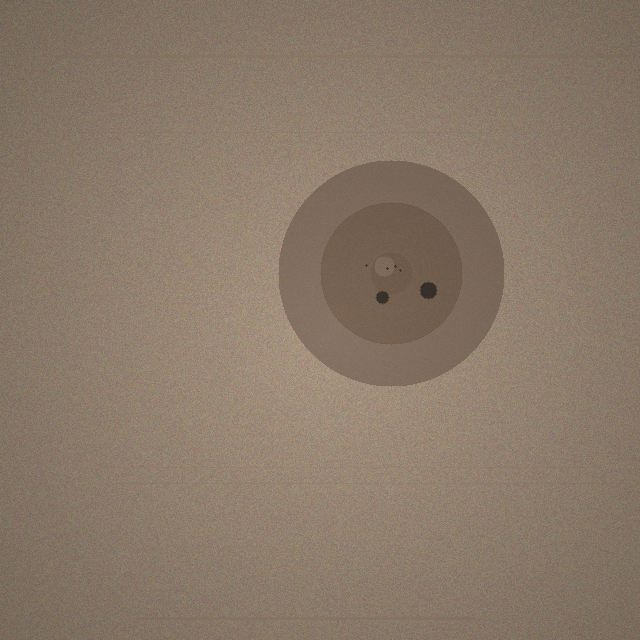shrinkage: (278, 160, 504, 386)
